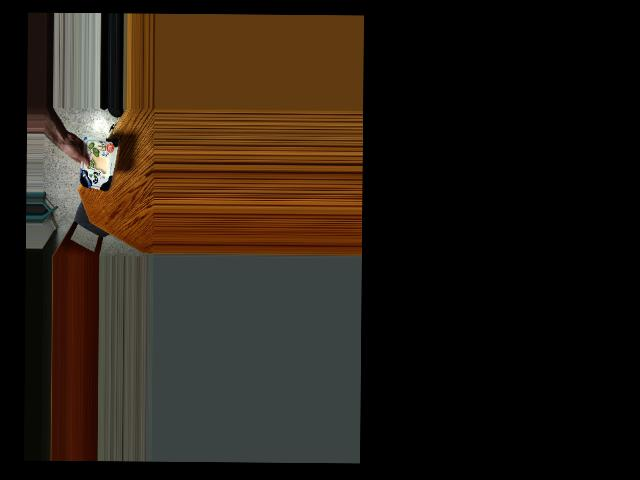cheese: (81, 140, 112, 190)
